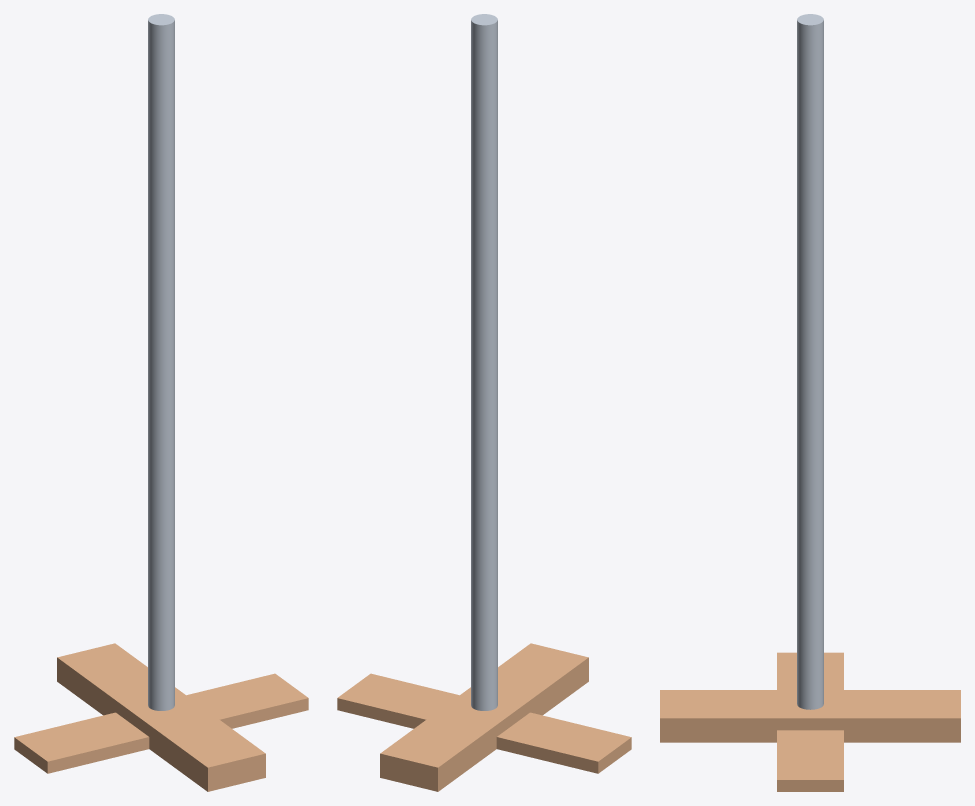
The model's file is festivusPole.glb.
The picture shows the model from 3 angles, left to right: view 1: azimuth 30°, elevation 25°; view 2: azimuth 150°, elevation 25°; view 3: azimuth 270°, elevation 25°; orthographic projection.
Parts seen in each view (by area): view 1: festivusPole; view 2: festivusPole; view 3: festivusPole.
Part boxes in pixels (box(x1,y1,x2,y2)): festivusPole: box(14, 14, 308, 791); festivusPole: box(337, 14, 631, 791); festivusPole: box(660, 14, 960, 791).
Bounding box in the file's own units: 0.45 × 1.17 × 0.45.
